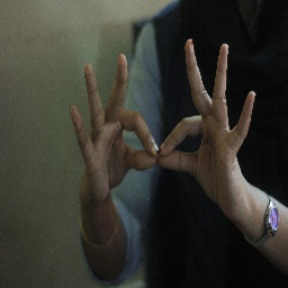B: (92, 70, 231, 182)
